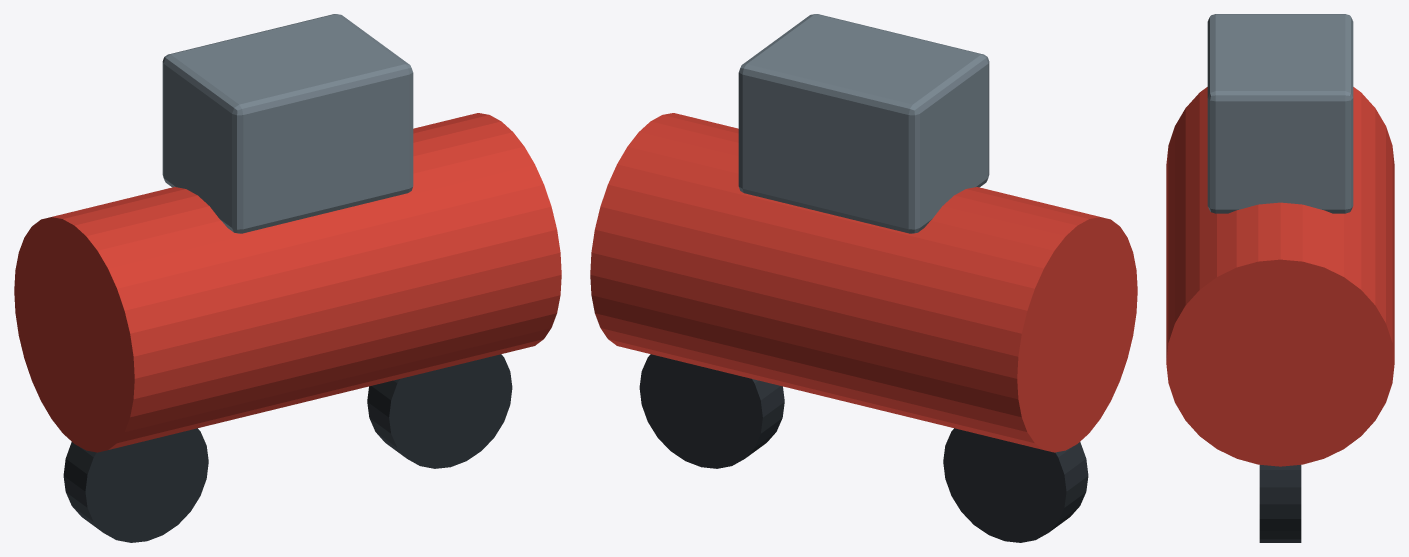
Rendered from Compressor.glb.
3 views of the same model, side by side, from view 1: azimuth 30°, elevation 25°; view 2: azimuth 150°, elevation 25°; view 3: azimuth 270°, elevation 25° (orthographic). The views are drawn at different scales.
Visible parts, largest first — view 1: AirTank, Motor, Wheel, Wheel.001; view 2: AirTank, Motor, Wheel, Wheel.001; view 3: AirTank, Motor, Wheel.001.
Boxes of the visible parts, bbox=[...] form: AirTank: bbox=[14, 113, 561, 452]; Motor: bbox=[162, 14, 413, 233]; Wheel: bbox=[63, 428, 208, 542]; Wheel.001: bbox=[367, 354, 512, 468]; AirTank: bbox=[590, 113, 1137, 452]; Motor: bbox=[738, 14, 989, 233]; Wheel: bbox=[943, 428, 1088, 542]; Wheel.001: bbox=[639, 354, 784, 468]; AirTank: bbox=[1166, 87, 1394, 466]; Motor: bbox=[1207, 14, 1353, 213]; Wheel.001: bbox=[1259, 465, 1301, 542].
Bounding box in the file's own units: 0.9 × 0.88 × 0.44.
